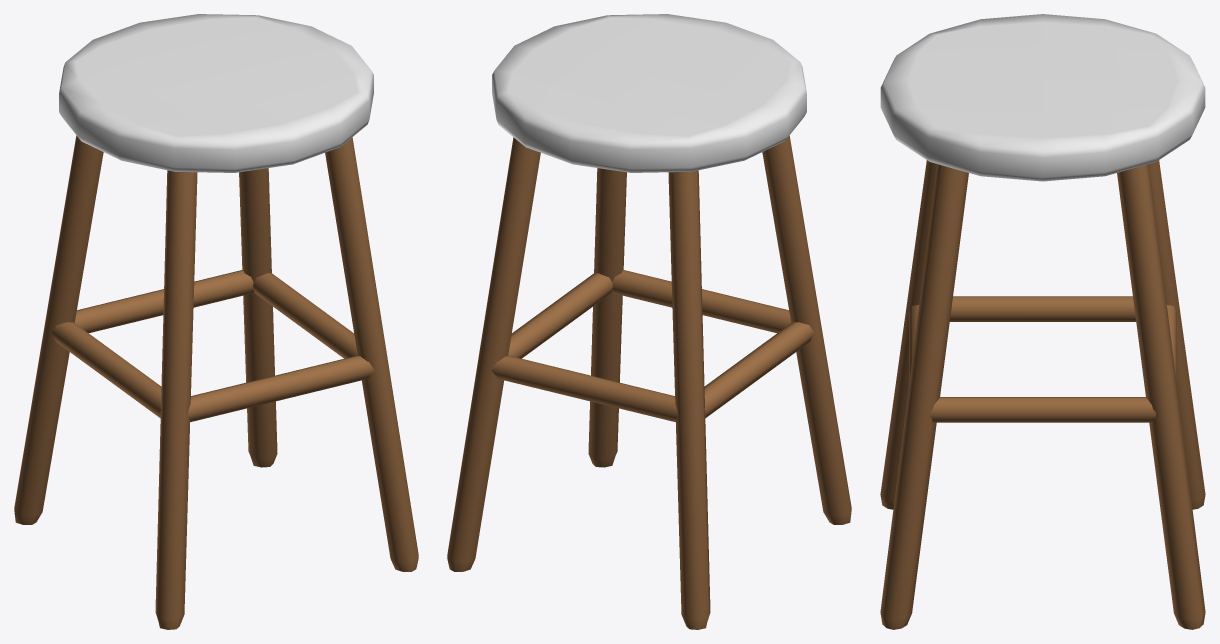
Rendered from Circular_Wooden_Bench.fbx.
3 renders of one model, left to right at view 1: azimuth 30°, elevation 25°; view 2: azimuth 150°, elevation 25°; view 3: azimuth 270°, elevation 25°, orthographic. The views are drawn at different scales.
Visible parts, largest first — view 1: Circular_Wooden_Bench; view 2: Circular_Wooden_Bench; view 3: Circular_Wooden_Bench.
Part boxes in pixels (x1,y1,x2,y2): Circular_Wooden_Bench: (14,14,418,629); Circular_Wooden_Bench: (447,14,851,629); Circular_Wooden_Bench: (880,14,1205,629).
Bounding box in the file's own units: 30.57 × 49.54 × 30.06.
